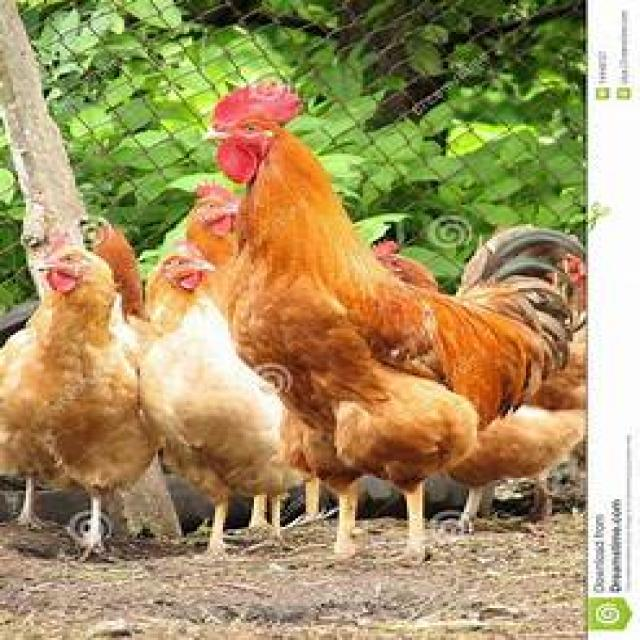hen: (213, 85, 542, 558), (0, 246, 162, 553), (140, 246, 296, 553)
